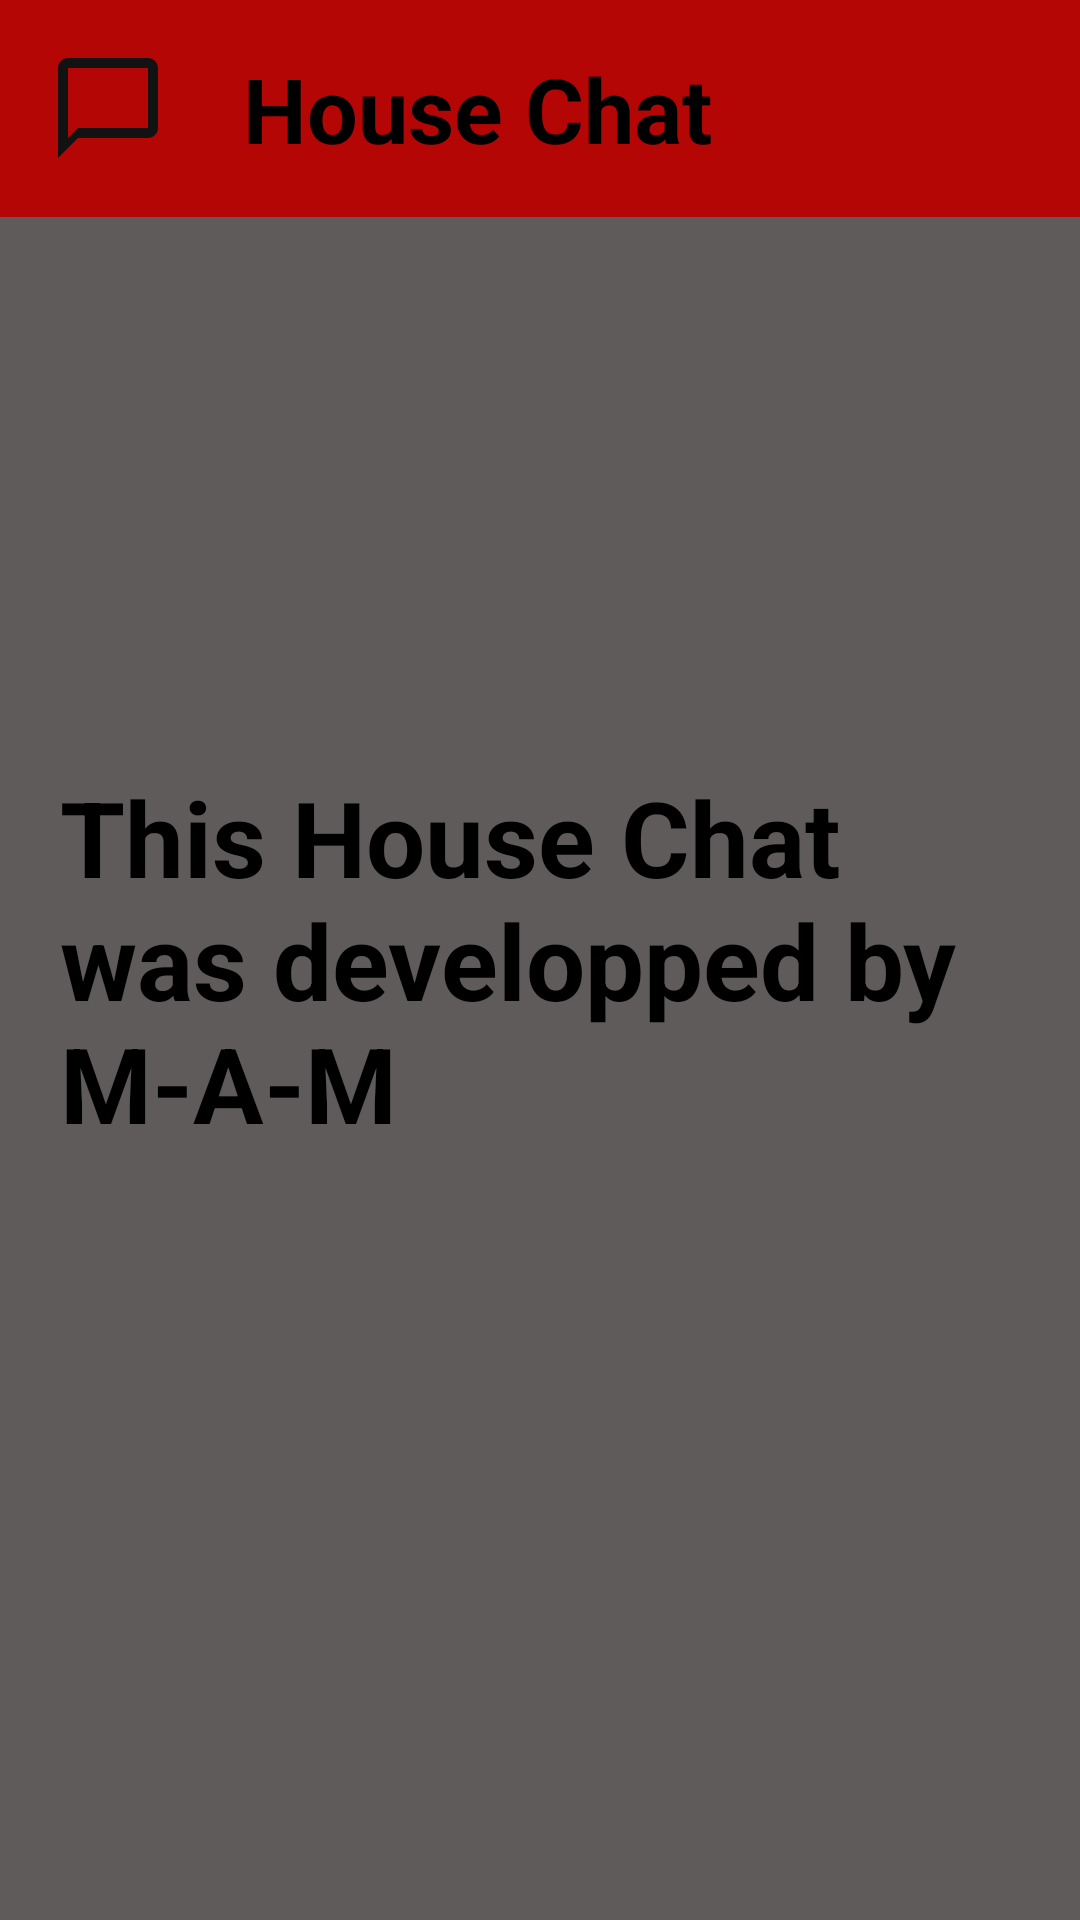

Screen size 1080px×1920px. Icon name, then its box in pixels as (x1, y1, x2, y2):
chat bubble: (58, 58, 158, 158)
